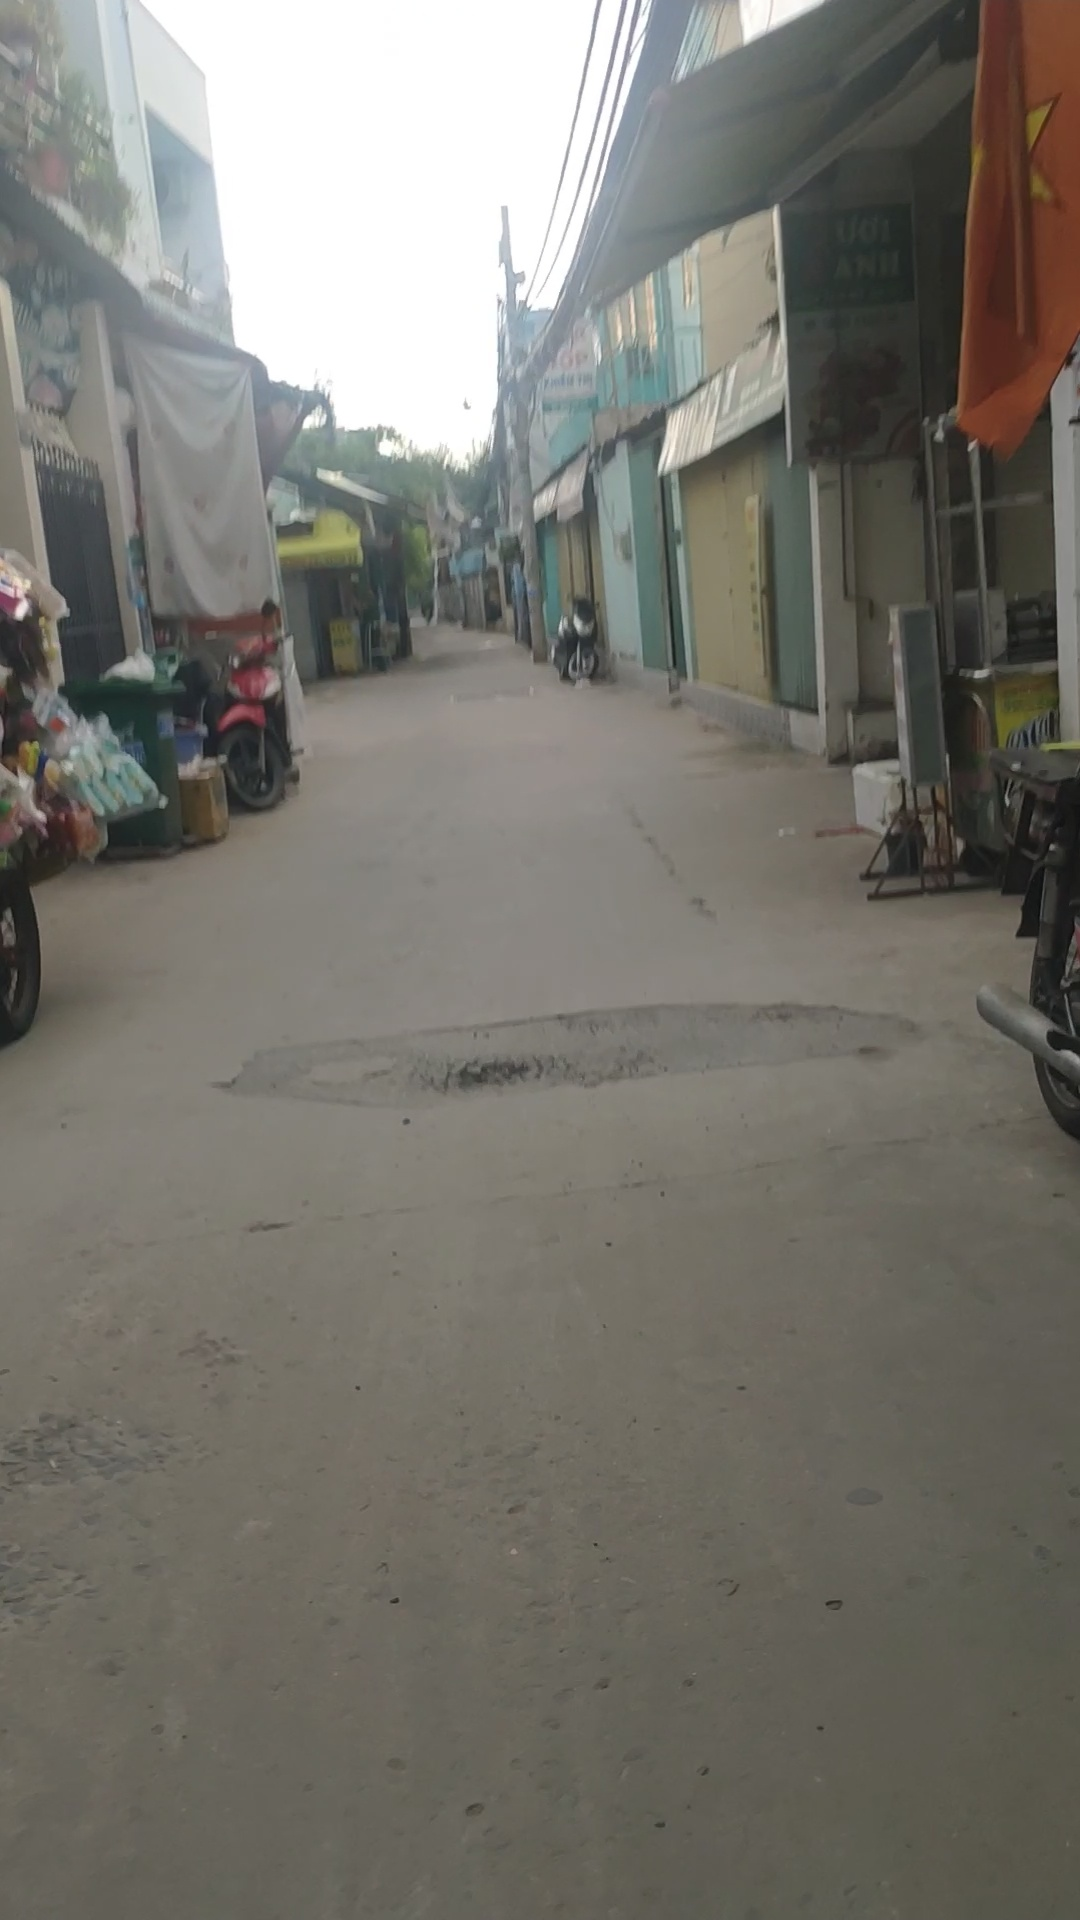hole: (228, 1004, 880, 1116)
